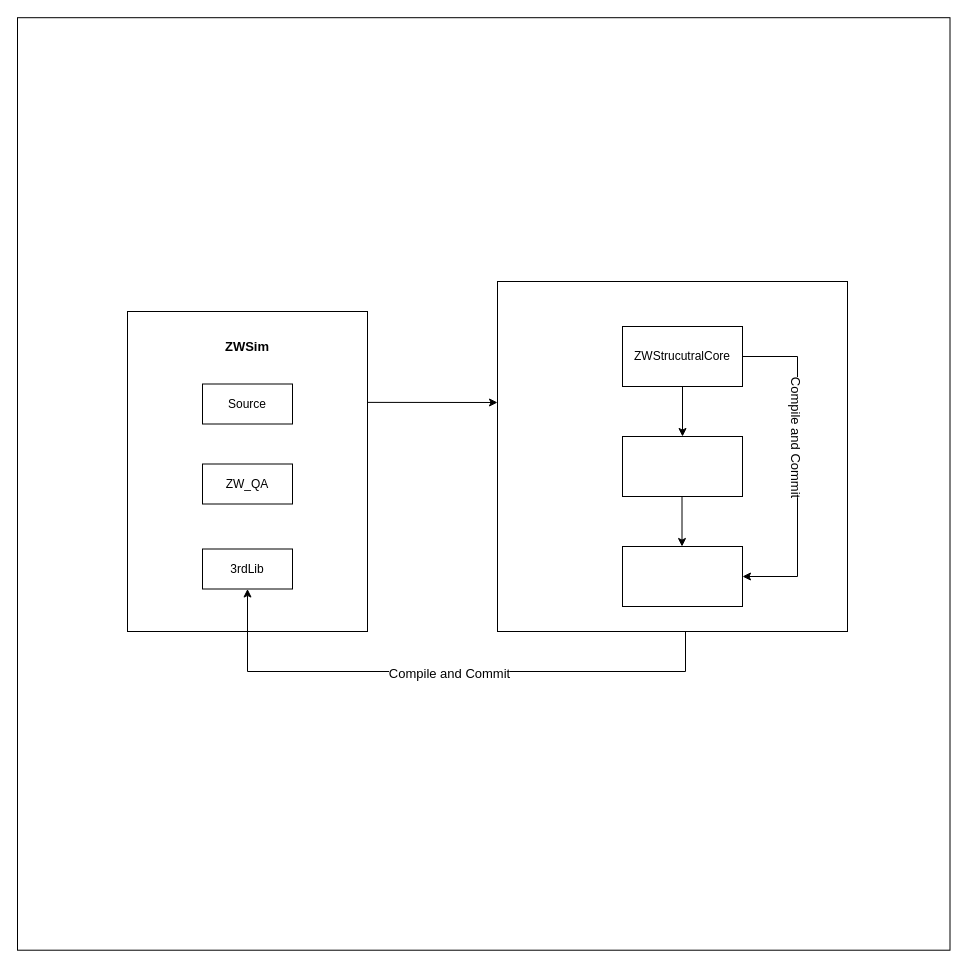
Some shapes in this 968 by 968 pixel diagram are drawn without their labels. The shapes that lost their labels are listed below. From the top down, each one's box as (x1, y1, x2, y2) in pixels, then its label:
(622, 436, 742, 496): ZWStrucutralMedium
(622, 546, 742, 606): ZWStrucutral
